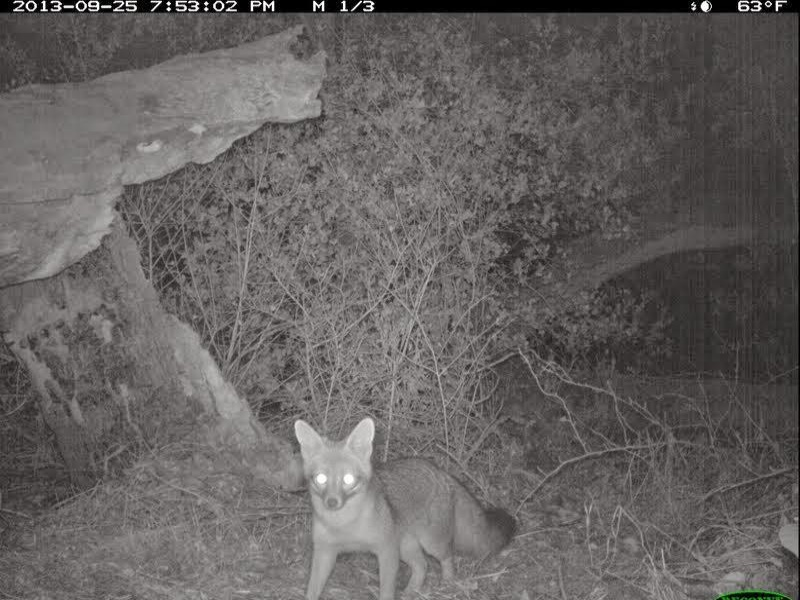fox: (290, 417, 520, 600)
